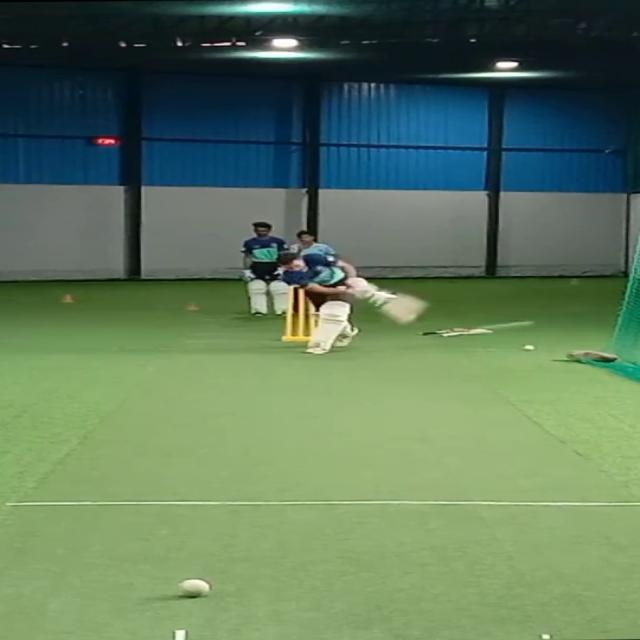ball: (168, 577, 214, 601)
stump: (285, 284, 308, 344)
